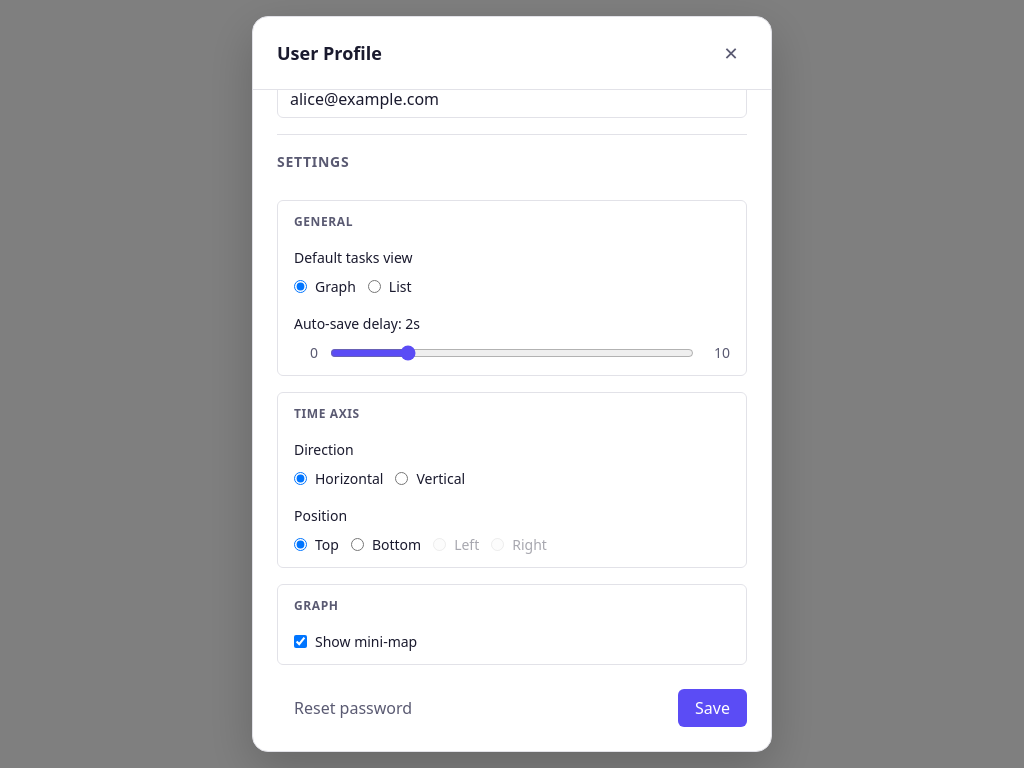
Scenario: UserProfileModal › shows API error on save failure
(page scrolled)
Click the button "Save": x=713, y=708 x1=678 y1=689 x2=747 y2=727
(page scrolled)
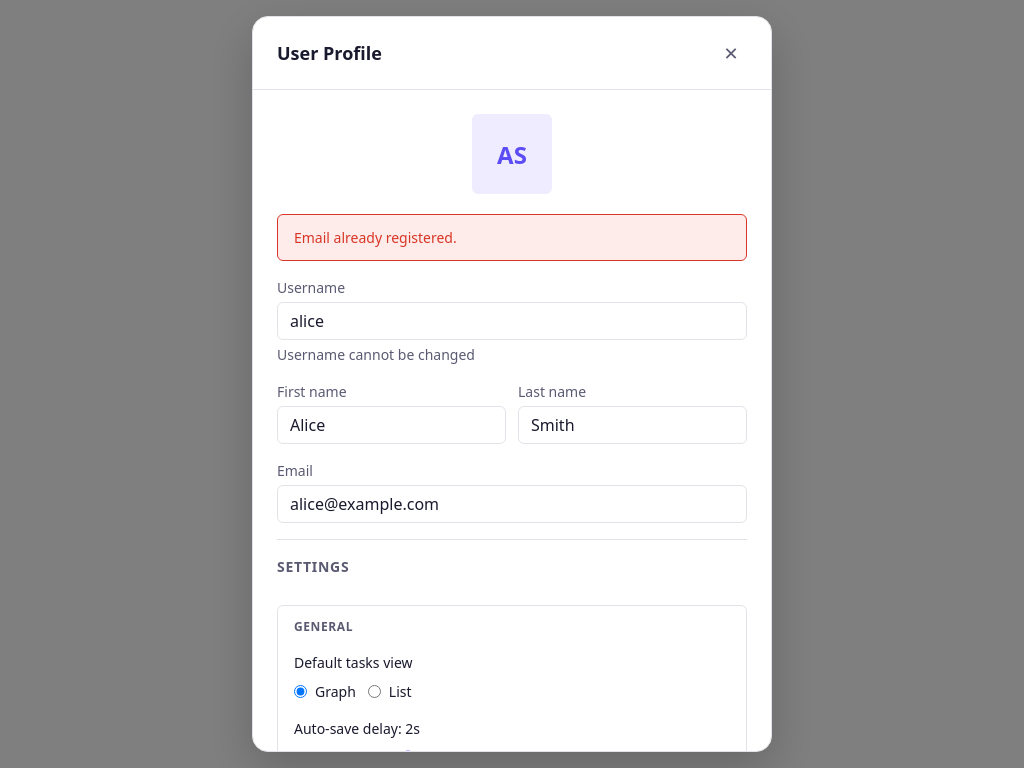
Now the message shows "Email already registered", box x1=294 y1=228 x2=457 y2=247
